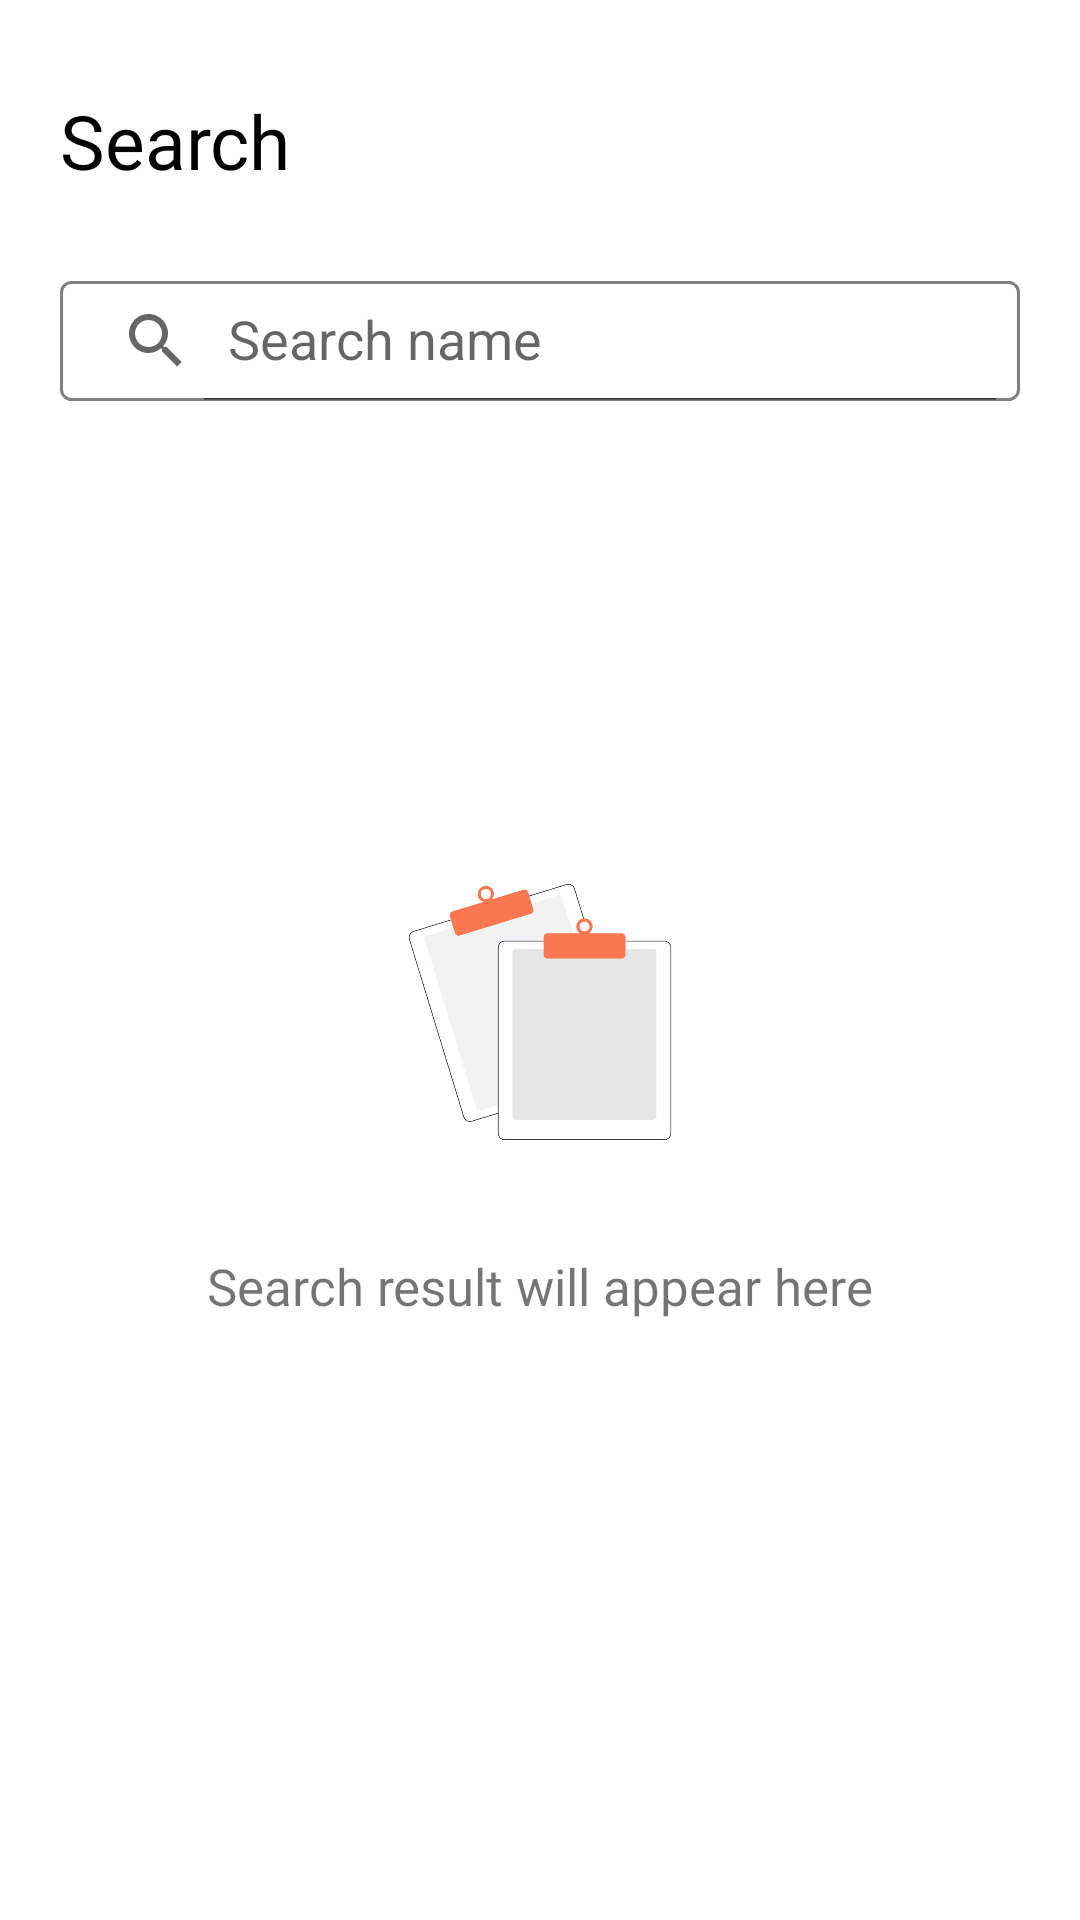

Icons on this 1080×1920 Android screen, each with its box as [x1,y1,x2,y2]:
no data: [409,884,671,1140]
